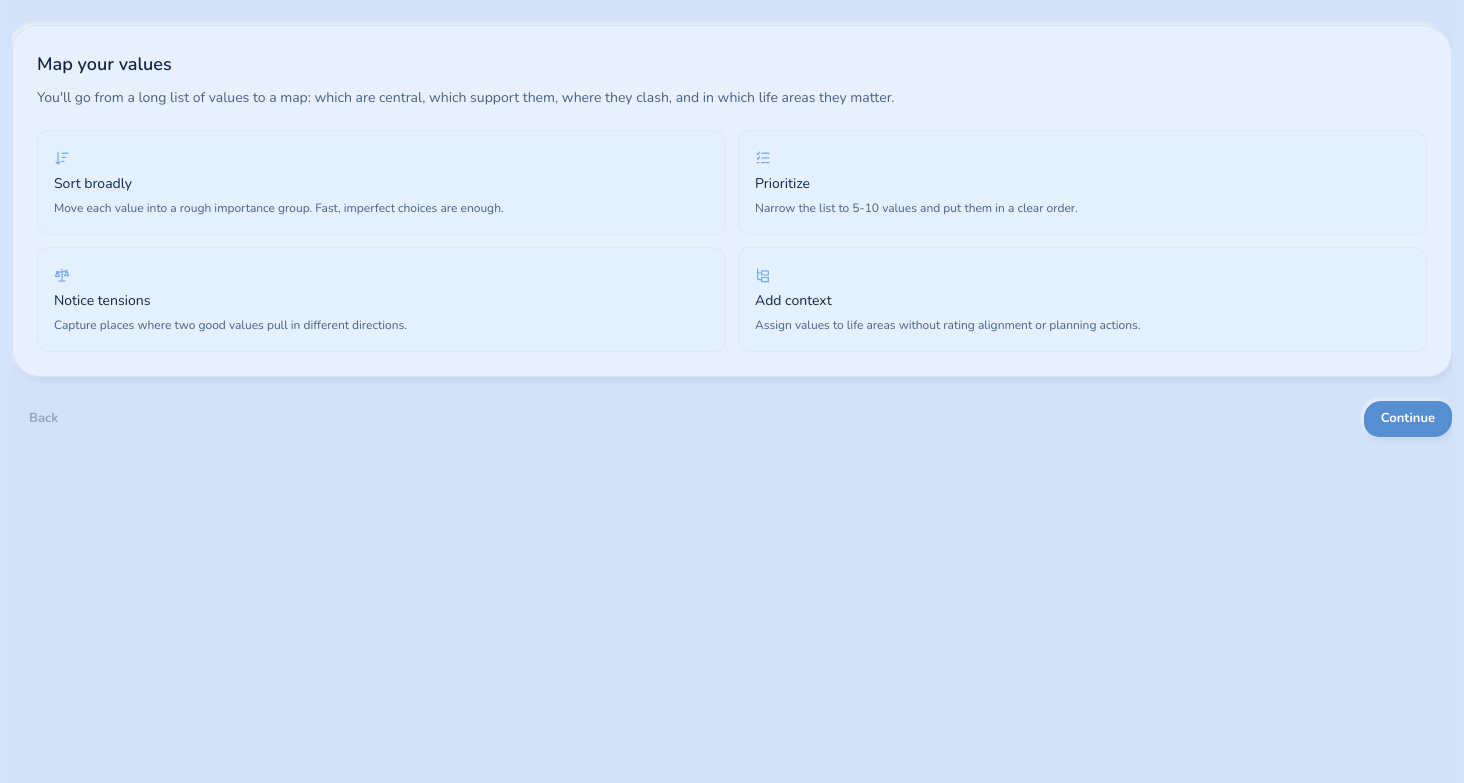
it: ValueMapWizard › starts with the overview and opens the sorting step
The image size is (1464, 783).
Check: the heading "Map your values" is shown, box [37,52,172,76]
Click the button "Continue" at (1408, 419), box [1364,401,1452,437]
(page scrolled)
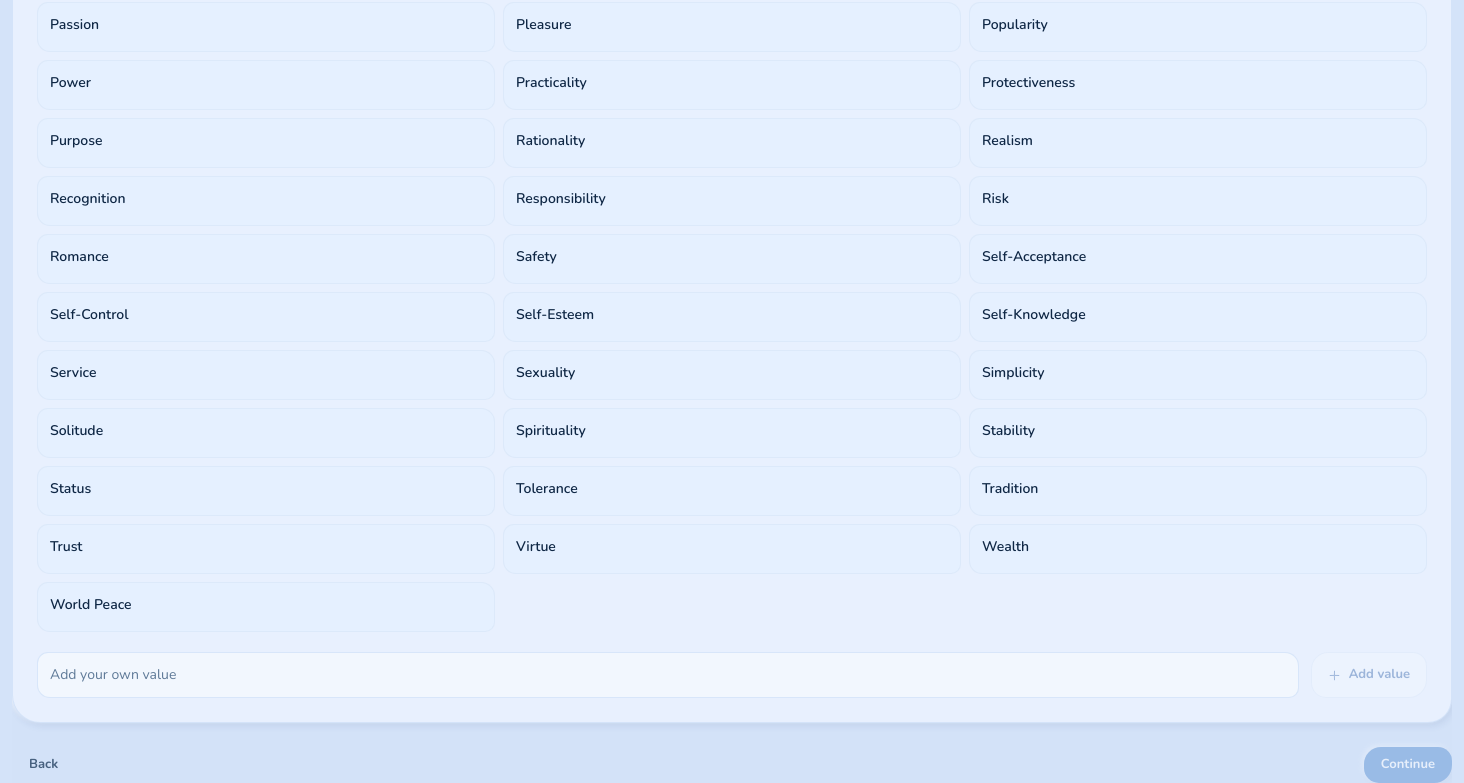
Check: the field with placeholder "Add your own value" is shown, box [37,652,1299,698]
